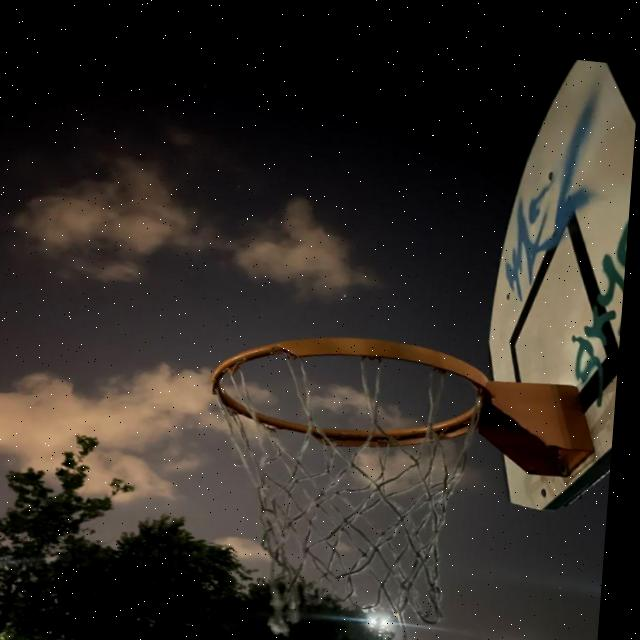hoop: (185, 332, 588, 601)
